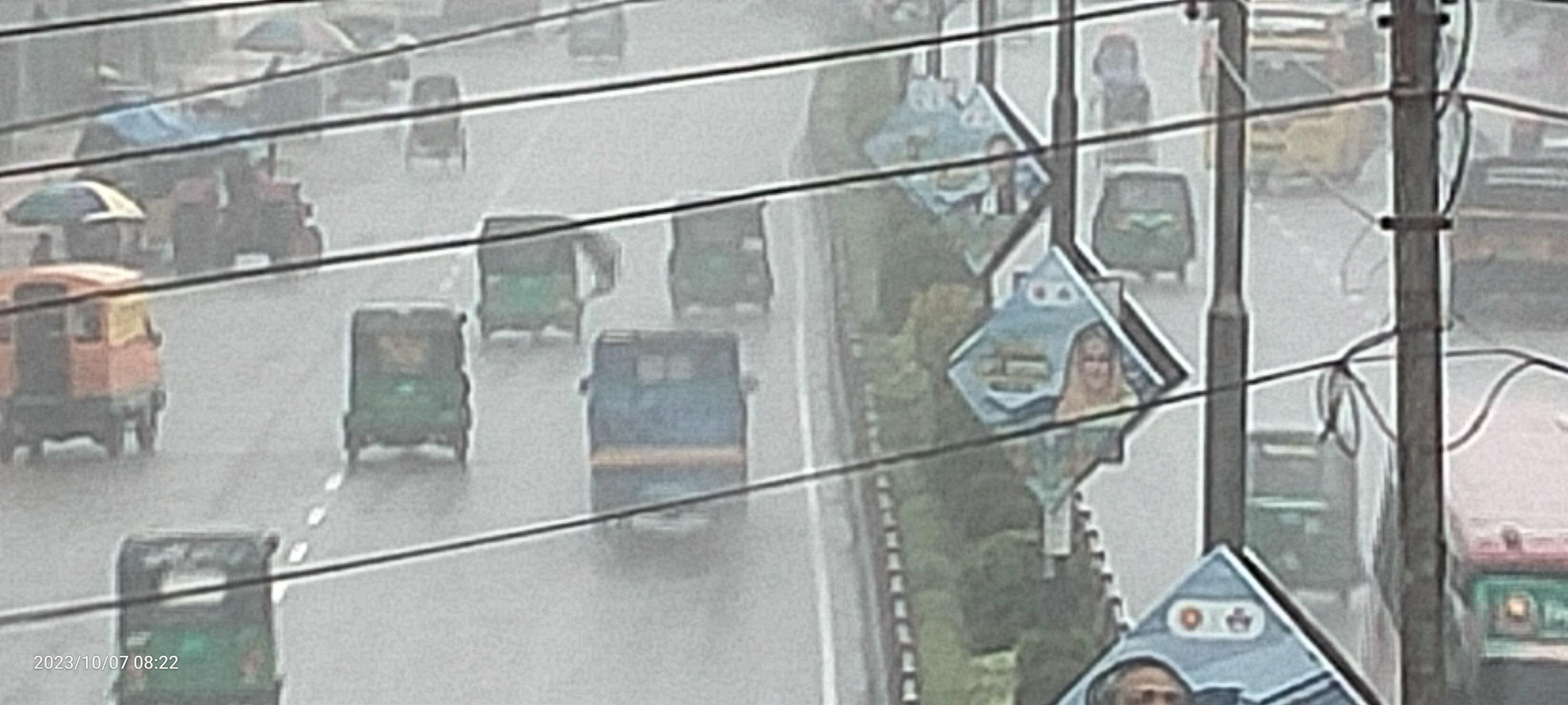Bus: (1359, 331, 1568, 705), (1171, 0, 1406, 233), (1396, 42, 1568, 346)
Car: (0, 241, 179, 489), (389, 58, 488, 185)
